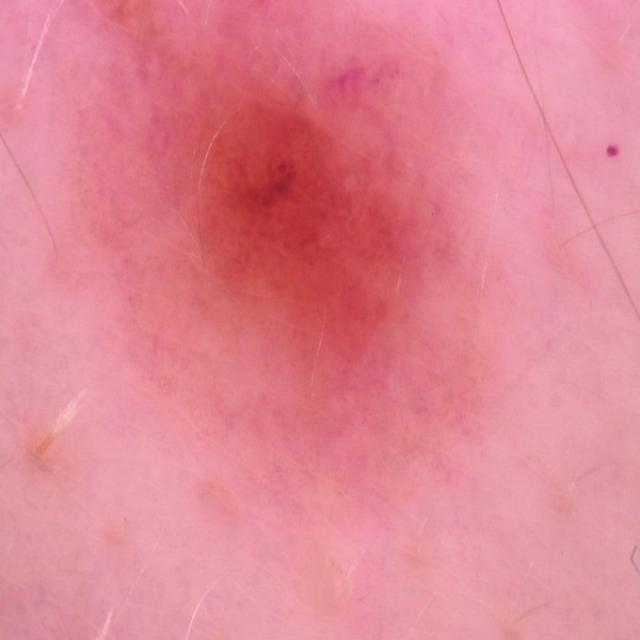NV: (74, 46, 490, 499)
